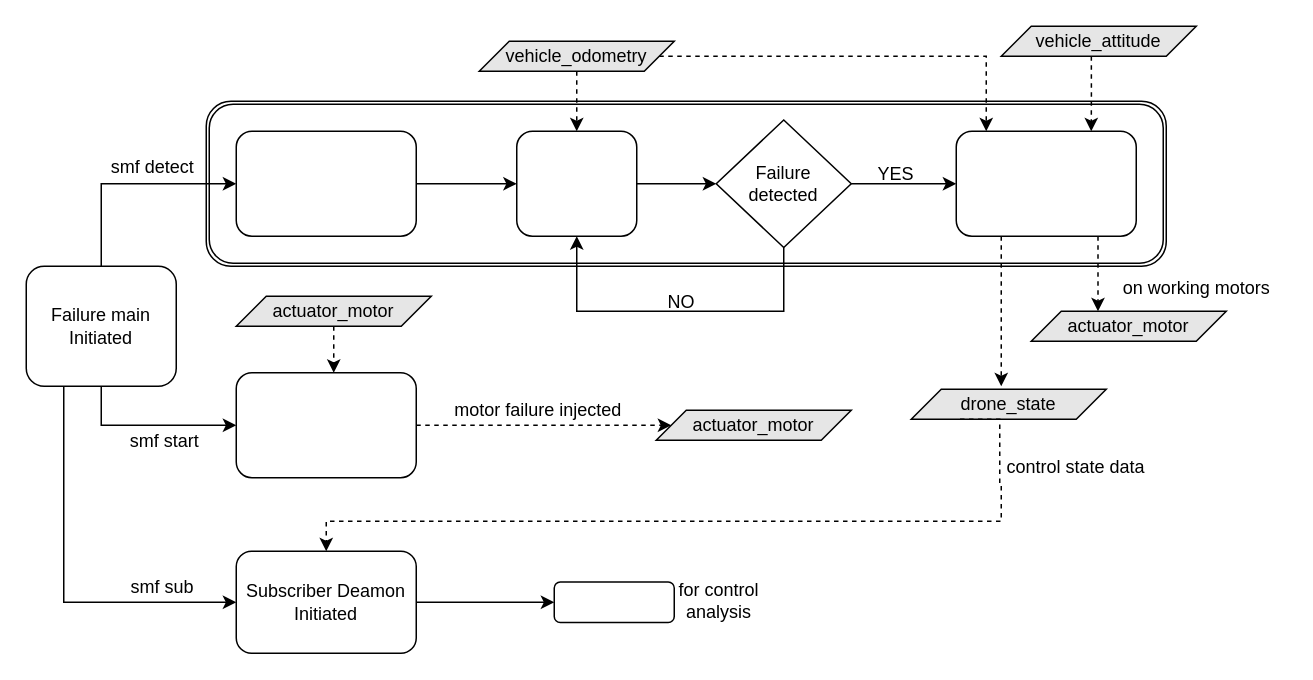
This 1313x680 diagram has some shape labels left out. The shapes that lost their labels are listed below. From the top down, each one's centre as x and y in pixels, then its label:
(x=325, y=183): Detecter Deamon Initiated
(x=576, y=183): Data Monitoring
(x=1045, y=183): Failure Controller
(x=325, y=424): Injector Deamon Initiated
(x=613, y=601): state data
